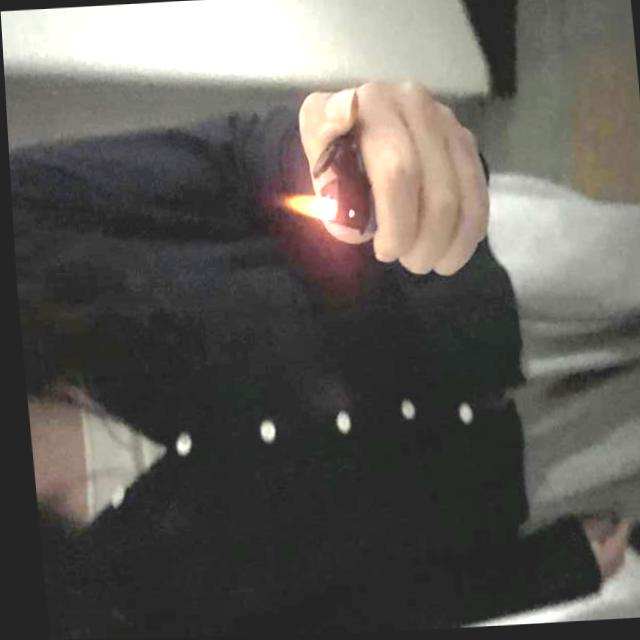Fire: (281, 189, 336, 227)
